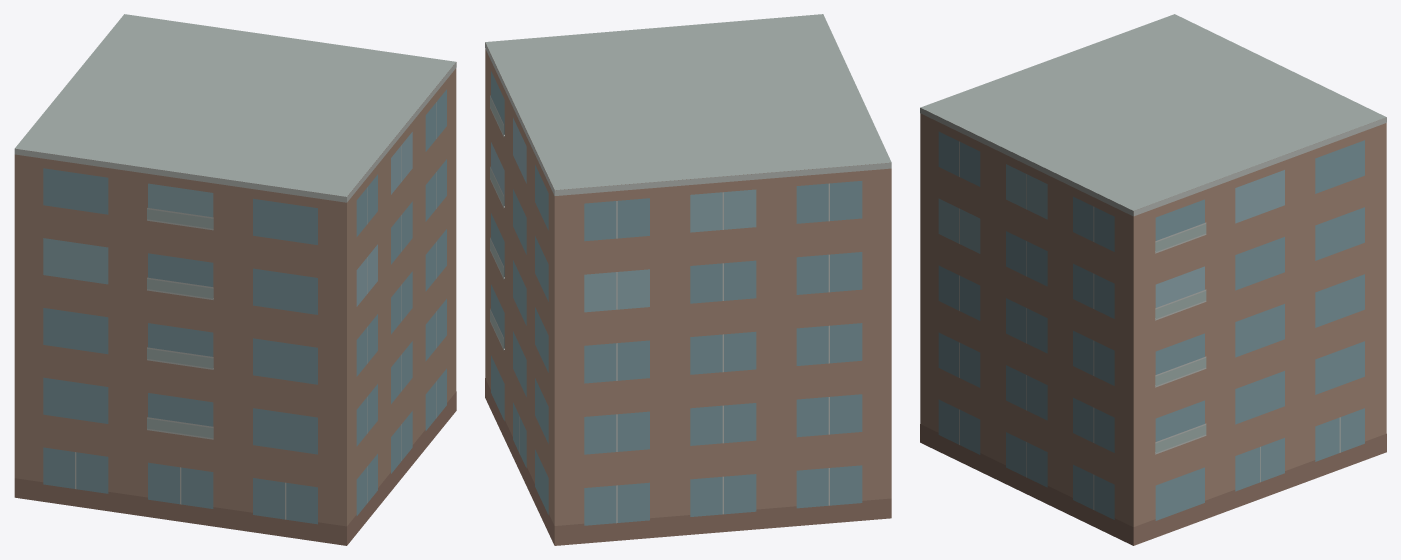
File: survey-upis-33043708.glb
3 renders of one model, left to right at view 1: azimuth 30°, elevation 25°; view 2: azimuth 150°, elevation 25°; view 3: azimuth 270°, elevation 25°, orthographic. The views are drawn at different scales.
Parts seen in each view (by area): view 1: survey-upis-33043708.tmp; view 2: survey-upis-33043708.tmp; view 3: survey-upis-33043708.tmp.
Boxes of the visible parts, x1,y1,x2,y2 form: survey-upis-33043708.tmp: (14,14,456,545); survey-upis-33043708.tmp: (485,14,891,545); survey-upis-33043708.tmp: (920,14,1386,545).
Bounding box in the file's own units: 18.41 × 14.6 × 18.44.
